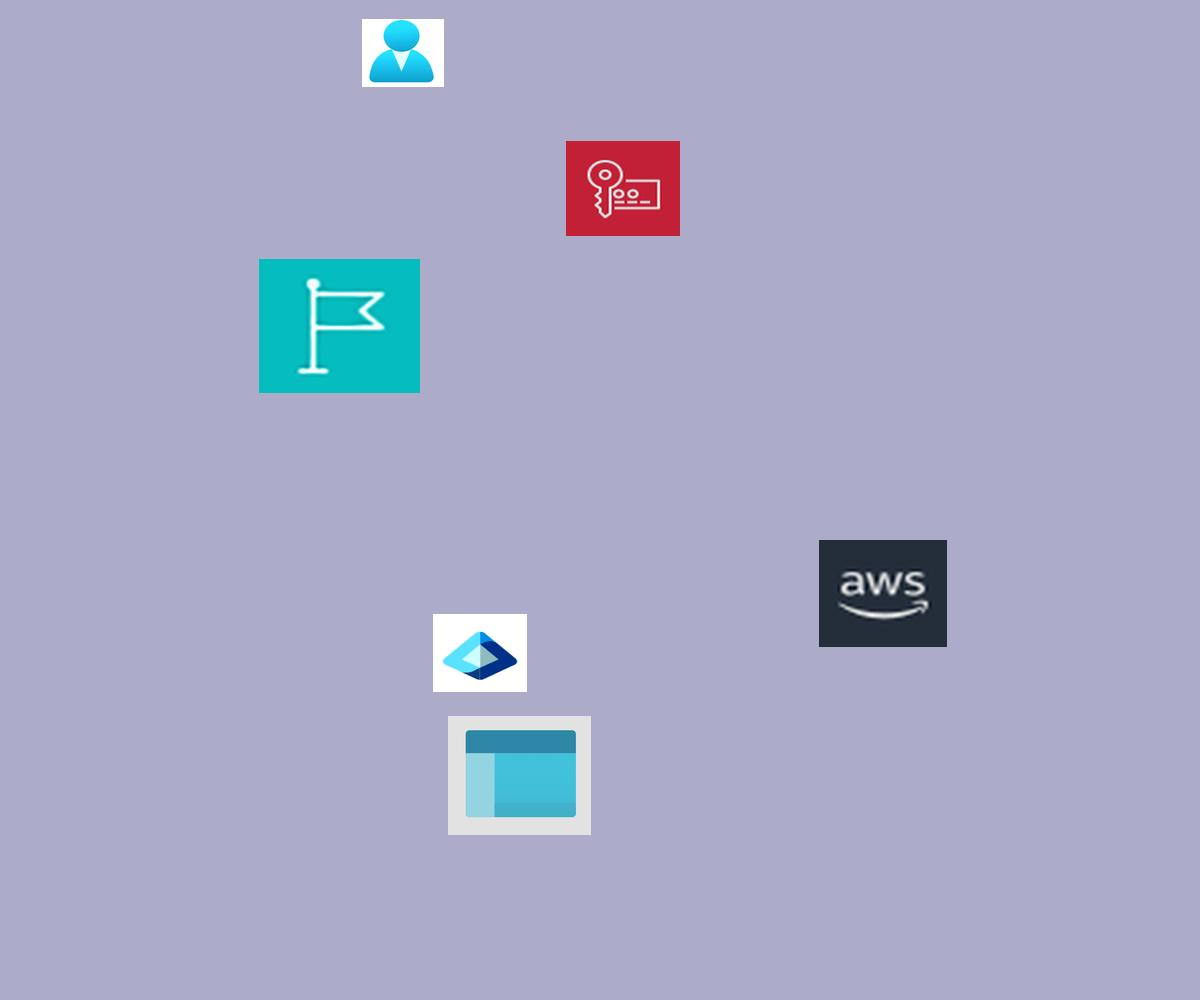AWS-Cloud-logo: (819, 540, 947, 647)
AWS-Key-Management-Service: (566, 141, 680, 236)
AWS-Region: (259, 259, 420, 393)
Azure_management-portal: (448, 716, 591, 835)
Azure_microsoft_entra: (433, 614, 527, 692)
Azure_users: (362, 19, 444, 87)
